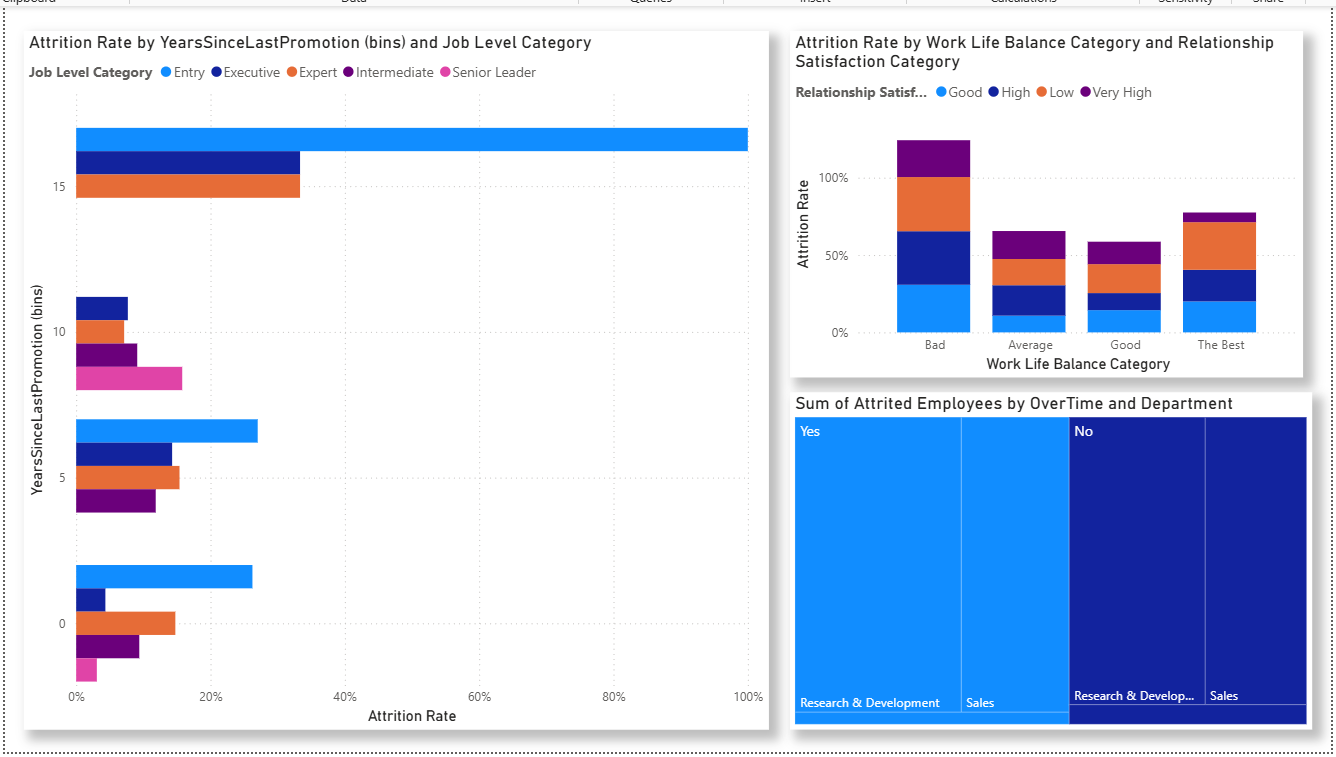

What the dashboard file says about the page in this screenshot:
{"tool":"powerbi","page":{"name":"Some Major Solution","canvas":[1280,720],"ordinal":3},"visuals":[{"type":"columnChart","fields":{"Category":["WA_Fn-UseC_-HR-Employee-Attrition.Work Life Balance Category"],"Series":["WA_Fn-UseC_-HR-Employee-Attrition.Relationship Satisfaction Category"],"Y":["WA_Fn-UseC_-HR-Employee-Attrition.Attrition Rate"]},"box":[757.7,24.4,494.9,334.6],"z":0},{"type":"treemap","fields":{"Details":["WA_Fn-UseC_-HR-Employee-Attrition.Department"],"Group":["WA_Fn-UseC_-HR-Employee-Attrition.OverTime"],"Values":["Sum(WA_Fn-UseC_-HR-Employee-Attrition.Attritated Employees)"]},"box":[757.7,373.1,503.8,325.6],"z":1000},{"type":"clusteredBarChart","fields":{"Category":["WA_Fn-UseC_-HR-Employee-Attrition.YearsSinceLastPromotion (bins)"],"Series":["WA_Fn-UseC_-HR-Employee-Attrition.Job Level Category"],"Y":["WA_Fn-UseC_-HR-Employee-Attrition.Attrition Rate"]},"box":[18.1,24.1,719,674.4],"z":2000}]}

Visuals, with their boxes on the page's 1280x720 design canvas (x1, y1, x2, y2). These are canvas units, not pixel positions in the 1336x757 screenshot, which may show the page scaled, cropped or inside an application window:
columnChart - WA_Fn-UseC_-HR-Employee-Attrition.Work Life Balance Category x WA_Fn-UseC_-HR-Employee-Attrition.Relationship Satisfaction Category: (758,24,1253,359)
treemap - WA_Fn-UseC_-HR-Employee-Attrition.Department x WA_Fn-UseC_-HR-Employee-Attrition.OverTime: (758,373,1262,699)
clusteredBarChart - WA_Fn-UseC_-HR-Employee-Attrition.YearsSinceLastPromotion (bins) x WA_Fn-UseC_-HR-Employee-Attrition.Job Level Category: (18,24,737,698)
